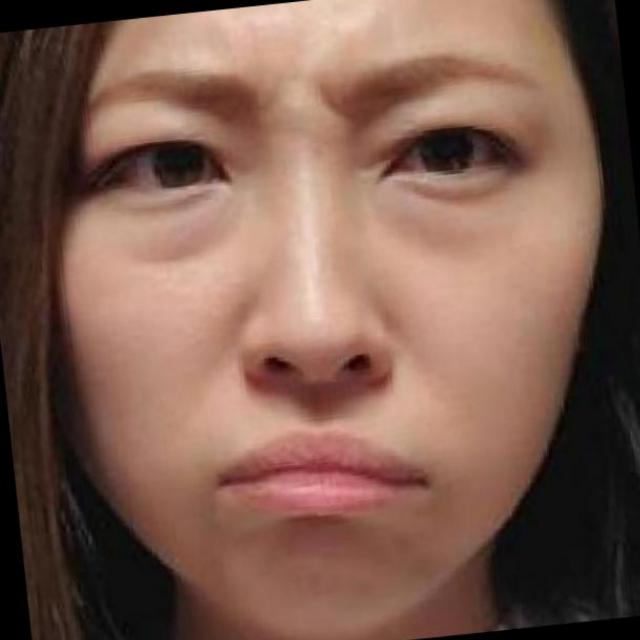Sad: (45, 63, 576, 620)
